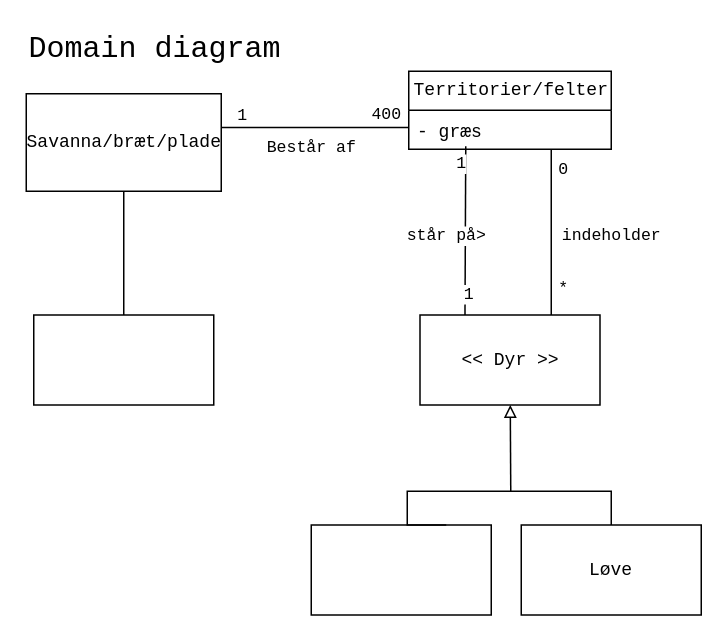
Some shapes in this 728 by 641 pixel diagram are drawn without their labels. Each missing label, with the centre of its shape:
GameLogic: (123,359)
Kanin: (400,569)
